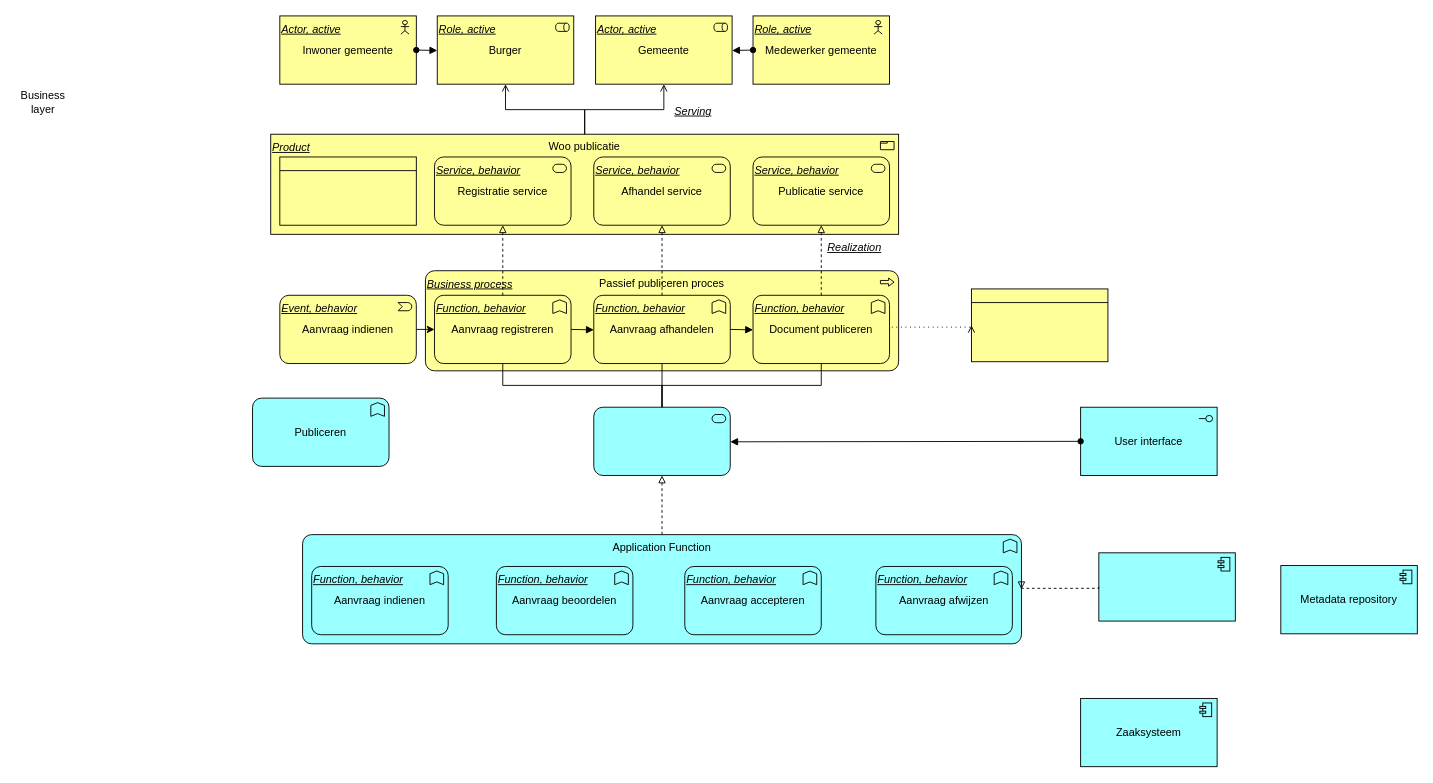
The diagram is 1433 pixels wide and 783 high, and some of its shapes have lost their labels. Each missing label, with the centre of its shape:
Aanvraag: the point at 347,190
Aanvraag CRUD: the point at 661,440
ESB: the point at 1166,586
Openbaar document: the point at 1039,325
